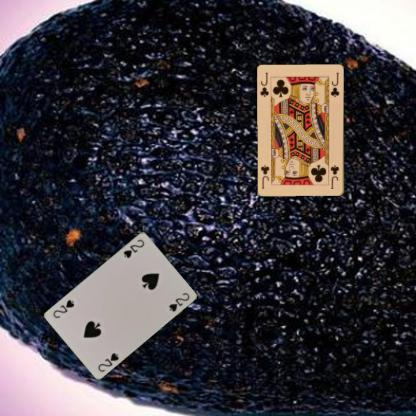2s: (120, 236, 146, 260), (96, 350, 121, 373)
Jc: (258, 70, 270, 98), (328, 163, 340, 190)
